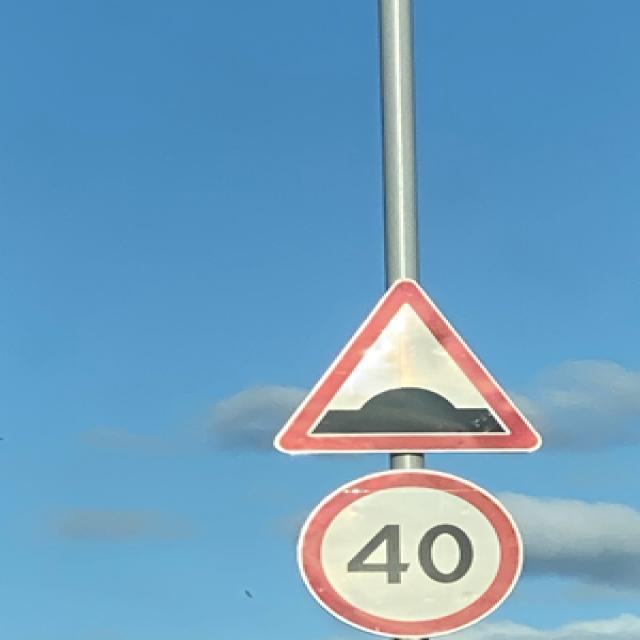speedlimit: (294, 471, 520, 638)
